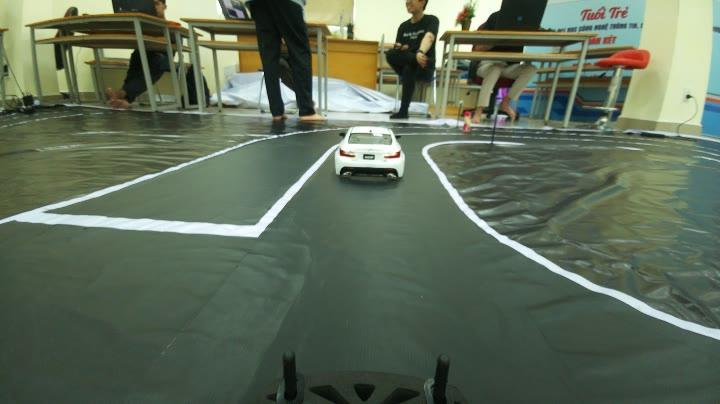car: (335, 120, 409, 190)
